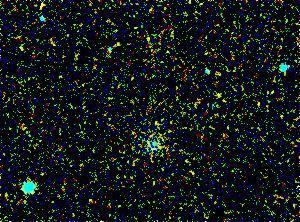star: (30, 0, 60, 22)
